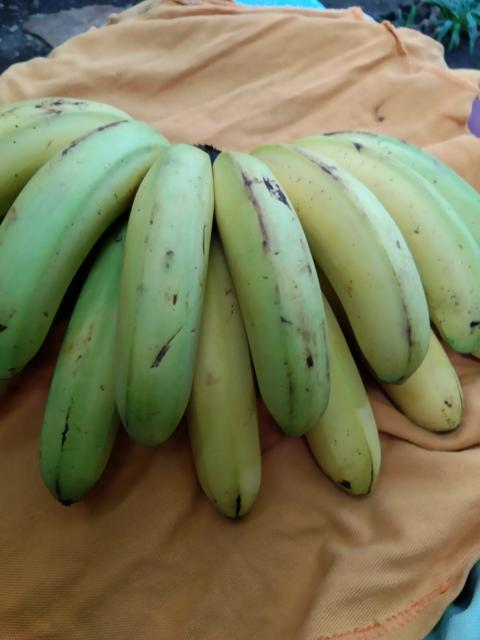ripe: (96, 147, 221, 446), (212, 145, 336, 426), (17, 287, 122, 514)
